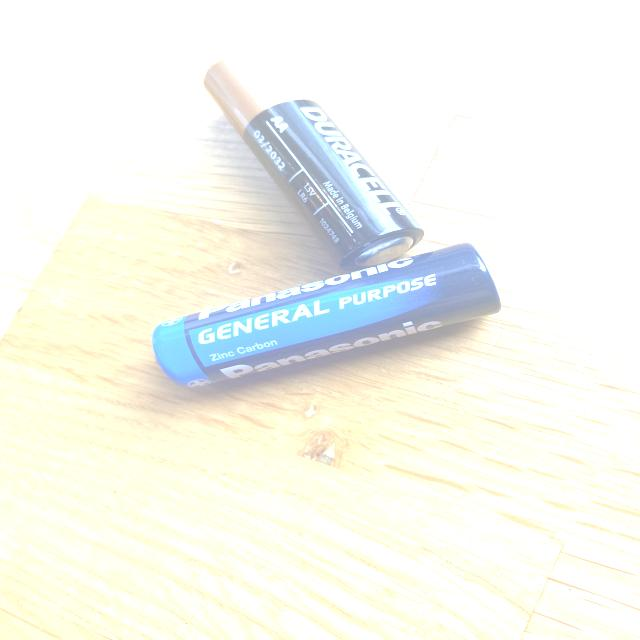AA: (151, 241, 502, 389)
